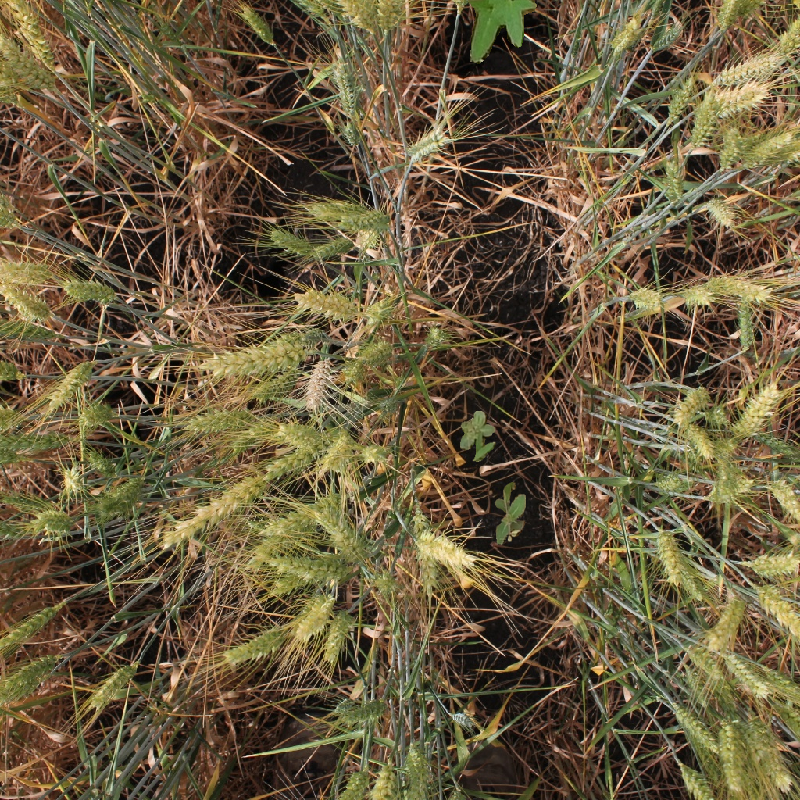spikelet: (159, 474, 265, 550), (202, 325, 323, 378), (742, 716, 794, 791), (1, 29, 57, 91), (315, 503, 371, 563), (264, 550, 352, 585), (203, 472, 267, 519), (11, 2, 57, 67), (412, 527, 478, 571), (1, 603, 59, 653), (731, 381, 782, 437), (221, 624, 285, 667), (668, 699, 718, 754), (753, 584, 800, 642), (713, 49, 782, 87), (44, 358, 94, 410), (1, 653, 58, 698), (87, 660, 138, 710), (95, 474, 148, 521), (290, 589, 335, 642), (295, 284, 359, 321), (705, 594, 745, 653), (709, 270, 775, 305), (723, 651, 770, 699), (1, 278, 53, 321), (717, 721, 746, 798), (741, 128, 795, 169), (714, 80, 770, 119), (181, 404, 252, 434), (328, 57, 364, 115), (651, 528, 686, 587), (401, 124, 451, 165), (226, 413, 276, 453), (321, 609, 356, 665), (60, 272, 117, 306), (235, 2, 277, 48), (687, 90, 720, 147), (707, 459, 747, 506), (401, 740, 433, 798), (758, 661, 799, 706), (1, 427, 69, 454), (667, 383, 710, 425), (303, 195, 367, 223), (664, 73, 698, 125), (302, 356, 334, 411), (746, 546, 800, 578), (1, 316, 60, 345), (333, 696, 388, 727), (262, 447, 315, 479), (252, 366, 299, 401), (345, 204, 396, 236), (767, 474, 800, 523), (266, 225, 314, 257), (273, 418, 321, 450), (319, 430, 353, 474), (657, 154, 687, 203), (733, 298, 760, 352), (607, 15, 643, 55), (678, 763, 716, 800), (627, 281, 666, 317), (32, 505, 74, 538), (715, 123, 745, 169), (336, 1, 380, 32), (771, 11, 800, 57), (651, 466, 694, 497), (414, 546, 441, 594), (309, 232, 354, 260), (703, 193, 739, 228), (648, 21, 684, 54), (684, 423, 716, 460), (1, 262, 51, 285), (679, 279, 716, 310), (357, 337, 395, 367), (79, 399, 117, 429), (335, 767, 370, 799), (373, 1, 406, 33), (421, 321, 454, 353), (366, 764, 395, 799), (83, 447, 118, 475), (57, 464, 86, 497), (358, 438, 392, 466), (280, 1, 327, 21), (714, 1, 745, 31), (370, 567, 400, 598), (1, 489, 41, 512), (372, 388, 403, 417), (337, 119, 365, 147), (339, 356, 366, 385), (1, 516, 29, 543), (354, 226, 380, 253), (1, 191, 19, 230), (1, 400, 22, 433), (362, 300, 388, 326), (449, 708, 477, 731), (1, 354, 22, 383), (705, 403, 729, 428)
weed: (467, 1, 537, 64), (495, 482, 526, 545), (460, 411, 496, 462)
